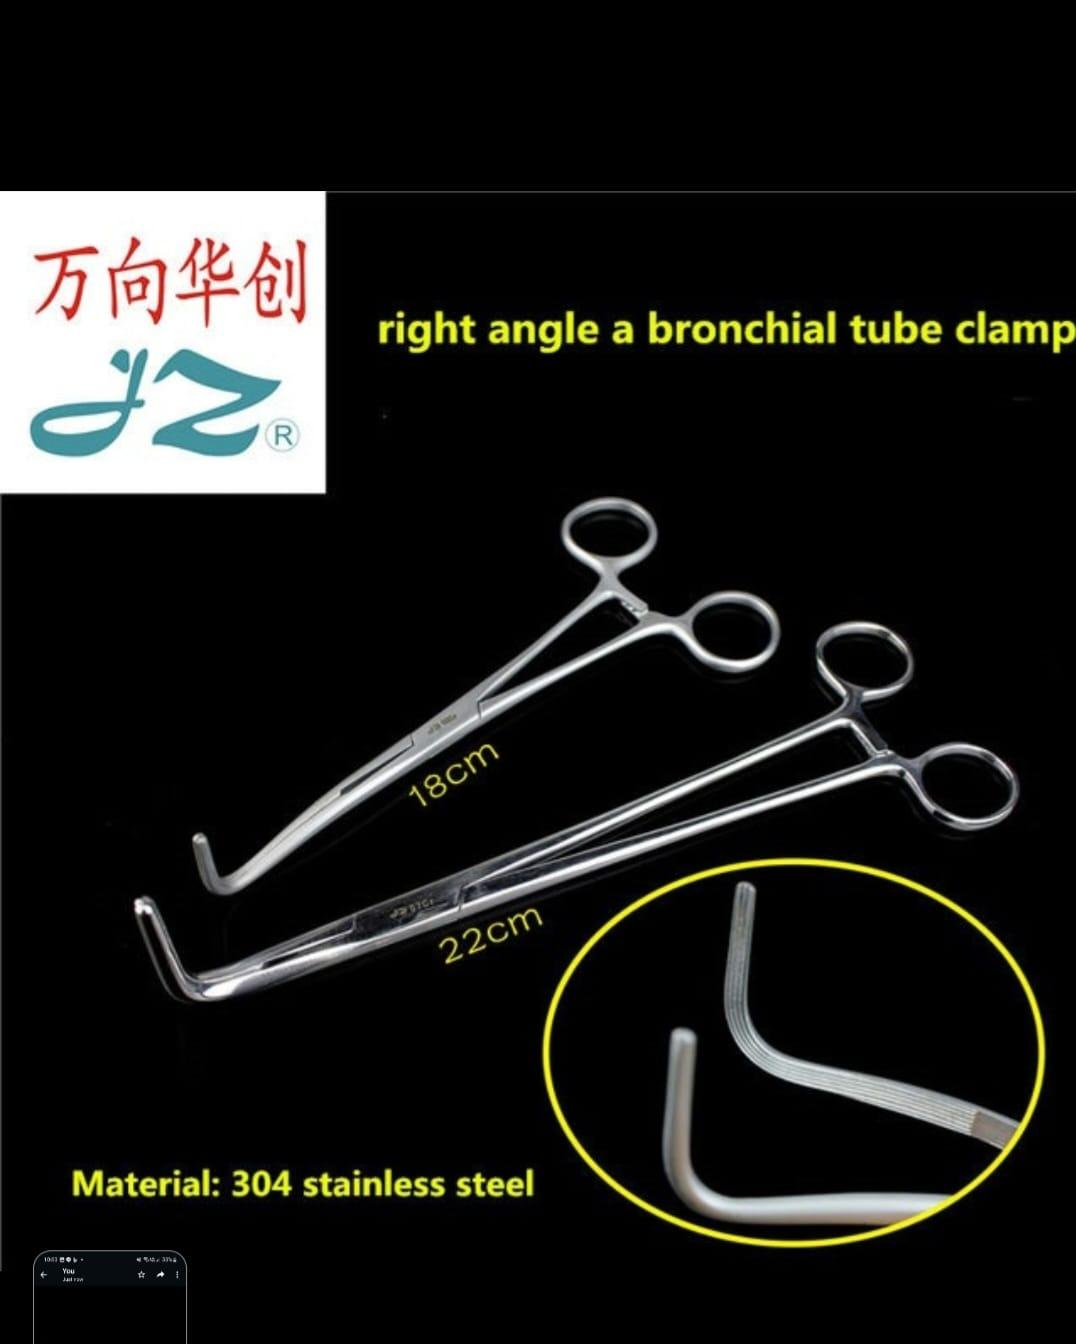Rectangle Cholecystectomy Forceps: (136, 600, 1024, 1020), (182, 492, 782, 901)
